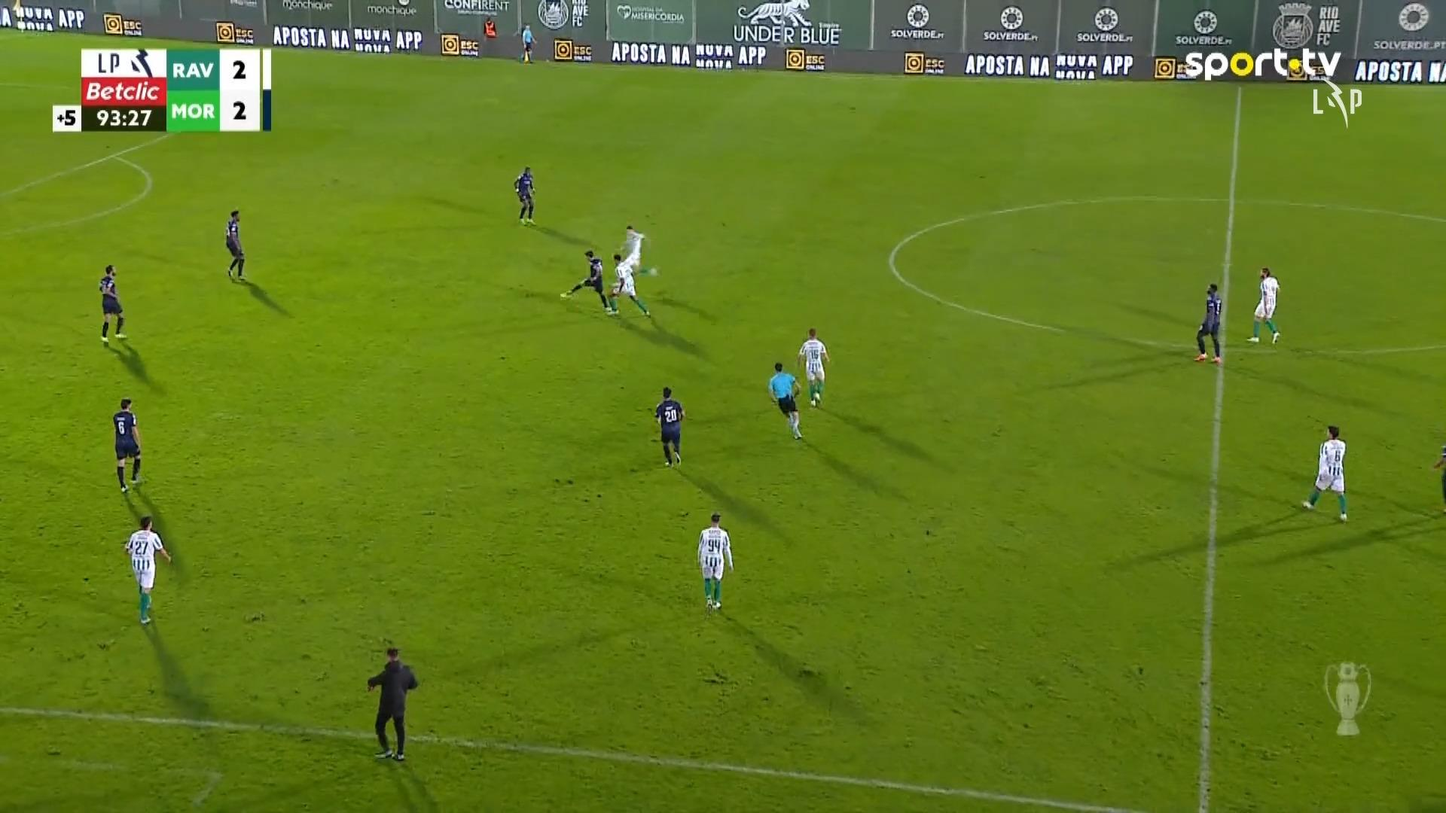ball: (560, 292, 571, 299)
player: (124, 515, 171, 625), (1301, 424, 1349, 522), (606, 224, 651, 317), (696, 512, 734, 611), (559, 248, 612, 312), (112, 396, 142, 493), (796, 327, 829, 408), (1246, 266, 1280, 344), (654, 386, 685, 467), (1193, 282, 1223, 364), (97, 263, 127, 343), (224, 209, 246, 282), (513, 166, 536, 225), (618, 224, 645, 274), (1432, 445, 1445, 513)
referee: (366, 646, 417, 761), (767, 361, 803, 440), (519, 23, 535, 62)
